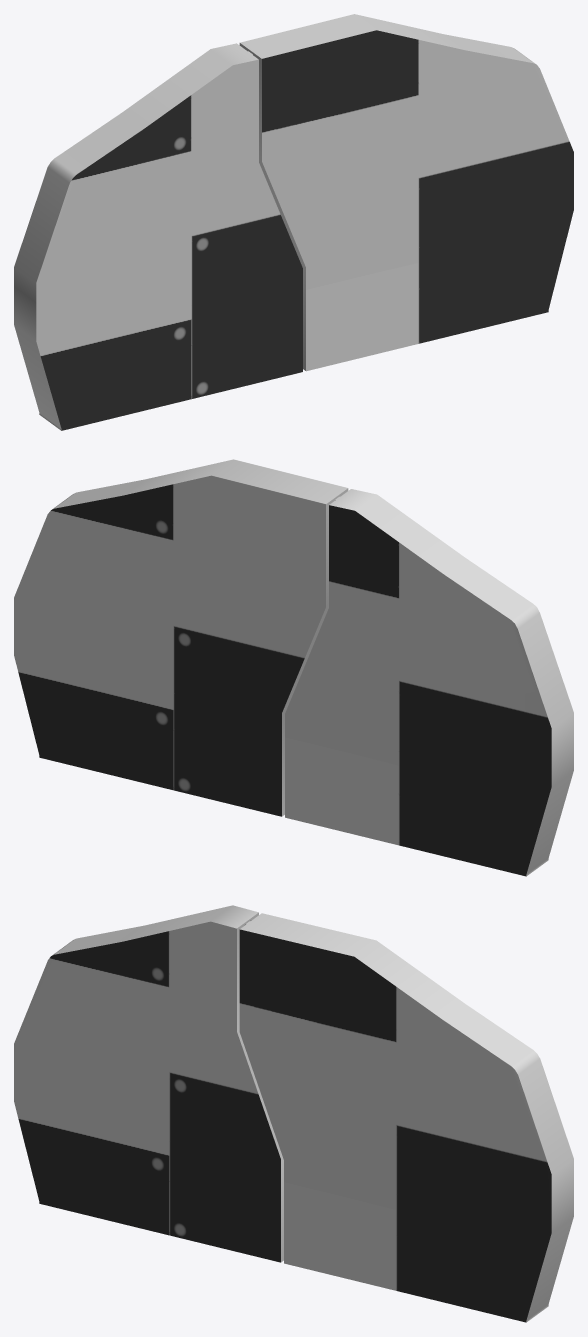
File: Doors.fbx
3 renders of one model, top to bottom at view 1: azimuth 30°, elevation 25°; view 2: azimuth 150°, elevation 25°; view 3: azimuth 330°, elevation 25°, orthographic.
Parts seen in each view (by area): view 1: Door_01, Door_02; view 2: Door_01, Door_02; view 3: Door_01, Door_02.
Boxes of the visible parts, x1=… form: Door_01: x1=239, y1=14, x2=573, y2=371; Door_02: x1=14, y1=43, x2=302, y2=430; Door_01: x1=14, y1=459, x2=348, y2=816; Door_02: x1=285, y1=489, x2=573, y2=876; Door_01: x1=239, y1=913, x2=573, y2=1322; Door_02: x1=14, y1=905, x2=283, y2=1262.
Bounding box in the file's own units: 403 × 232 × 29.12.
